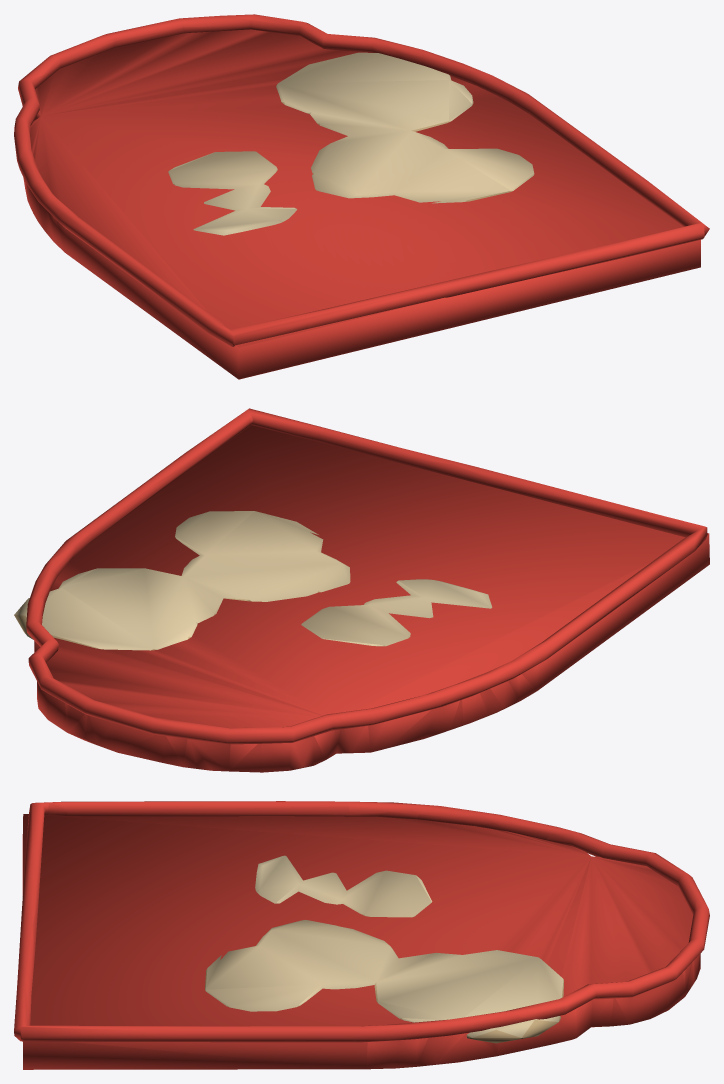
Rendered from shore_spade_blade_lod2.glb.
3 views of the same model, one above another, from view 1: azimuth 30°, elevation 25°; view 2: azimuth 150°, elevation 25°; view 3: azimuth 270°, elevation 25° (orthographic).
Parts seen in each view (by area): view 1: shore_spade_blade.001; view 2: shore_spade_blade.001; view 3: shore_spade_blade.001.
Part boxes in pixels (<box>): shore_spade_blade.001: <box>14,14,709,379</box>; shore_spade_blade.001: <box>14,408,709,772</box>; shore_spade_blade.001: <box>14,801,709,1069</box>.
Bounding box in the file's own units: 20.64 × 1.87 × 26.17.
